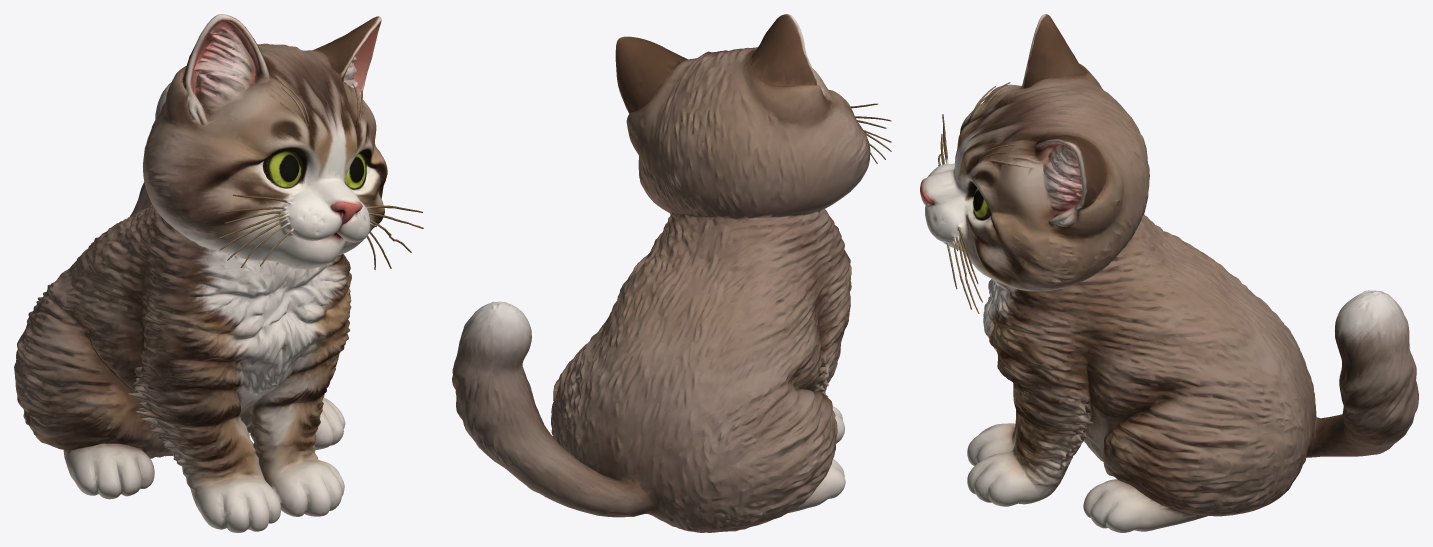
Rendered from kitten3d.glb.
The picture shows the model from 3 angles, left to right: view 1: azimuth 30°, elevation 25°; view 2: azimuth 150°, elevation 25°; view 3: azimuth 270°, elevation 25°; orthographic projection. The views are drawn at different scales.
Visible parts, largest first — view 1: tripo_node_8f44657b-fbe5-4e86-9e33-16d80091975e; view 2: tripo_node_8f44657b-fbe5-4e86-9e33-16d80091975e; view 3: tripo_node_8f44657b-fbe5-4e86-9e33-16d80091975e.
Part boxes in pixels (left/top/right/bottom): tripo_node_8f44657b-fbe5-4e86-9e33-16d80091975e: left=14, top=14, right=423, bottom=532; tripo_node_8f44657b-fbe5-4e86-9e33-16d80091975e: left=452, top=14, right=891, bottom=532; tripo_node_8f44657b-fbe5-4e86-9e33-16d80091975e: left=920, top=14, right=1418, bottom=532.
Size of the model in its own units: 0.6491 by 0.9998 by 0.9982.
Materials: 1 (1 with a texture image).
